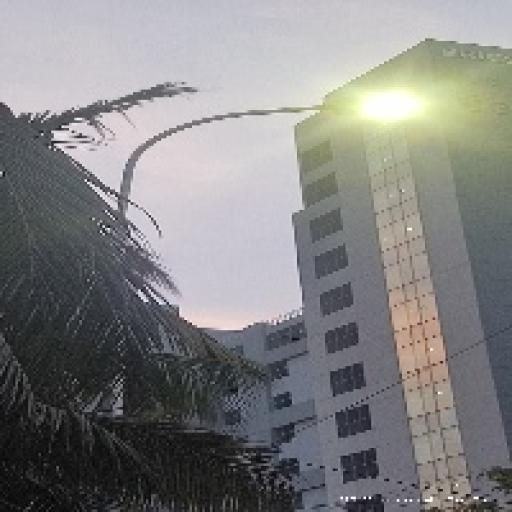Working: (344, 84, 432, 128)
